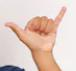clockwise: (3, 6, 67, 54)
